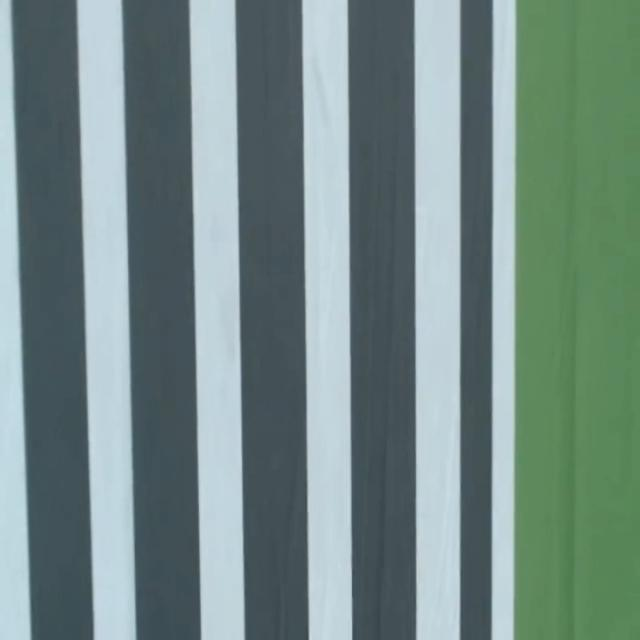right: (492, 0, 516, 639)
